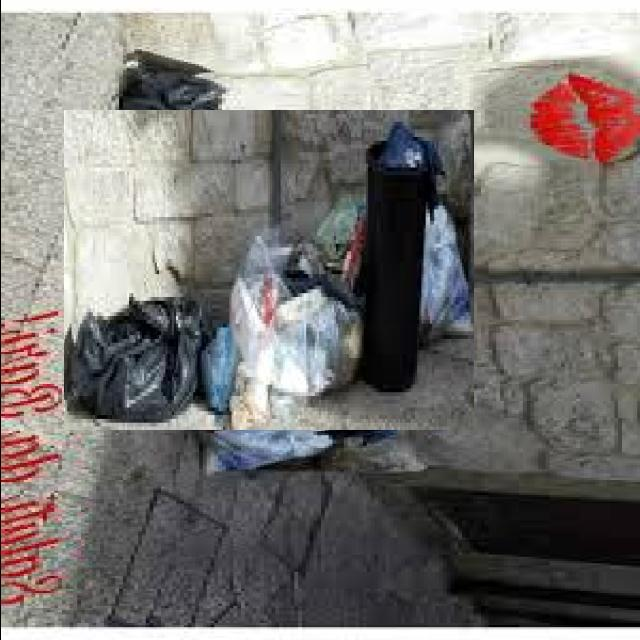garbage: (84, 87, 450, 453)
